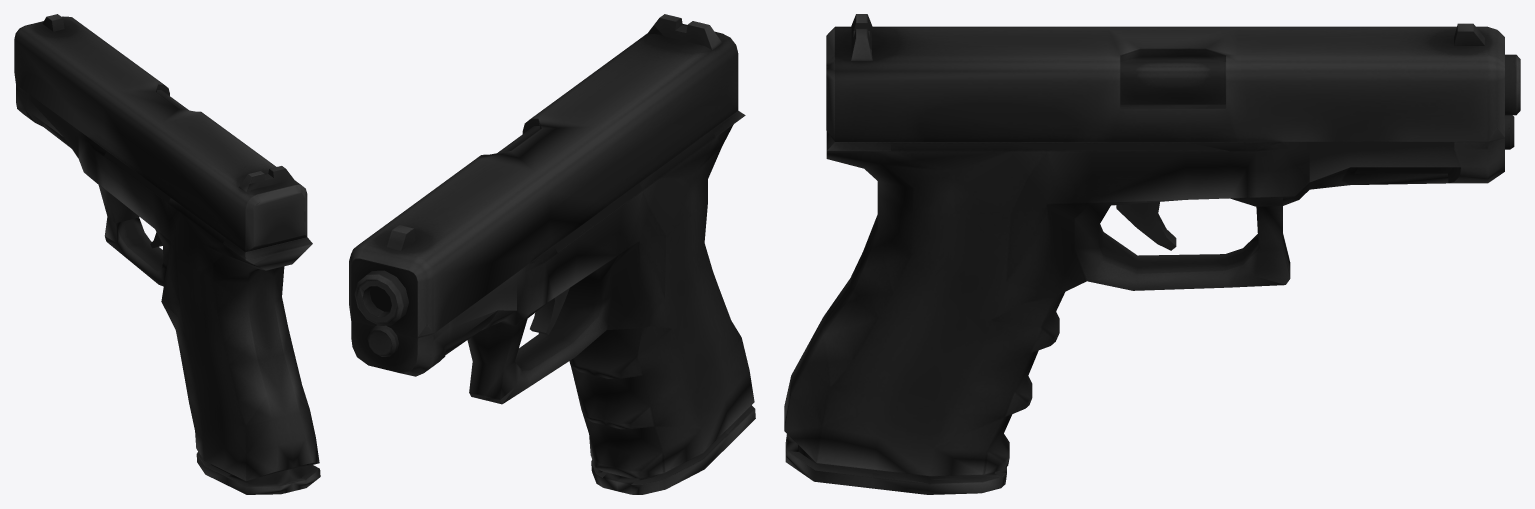
File: Pistol.gltf
The picture shows the model from 3 angles, left to right: view 1: azimuth 30°, elevation 25°; view 2: azimuth 150°, elevation 25°; view 3: azimuth 270°, elevation 25°; orthographic projection. The views are drawn at different scales.
Parts seen in each view (by area): view 1: Pistol_Model; view 2: Pistol_Model; view 3: Pistol_Model.
Part boxes in pixels (box(x1,y1,x2,y2)): Pistol_Model: box(14, 14, 320, 494); Pistol_Model: box(349, 14, 755, 494); Pistol_Model: box(784, 14, 1520, 494).
Size of the model in its own units: 0.1617 by 0.6376 by 0.9434.
1 material, 1 textured.
